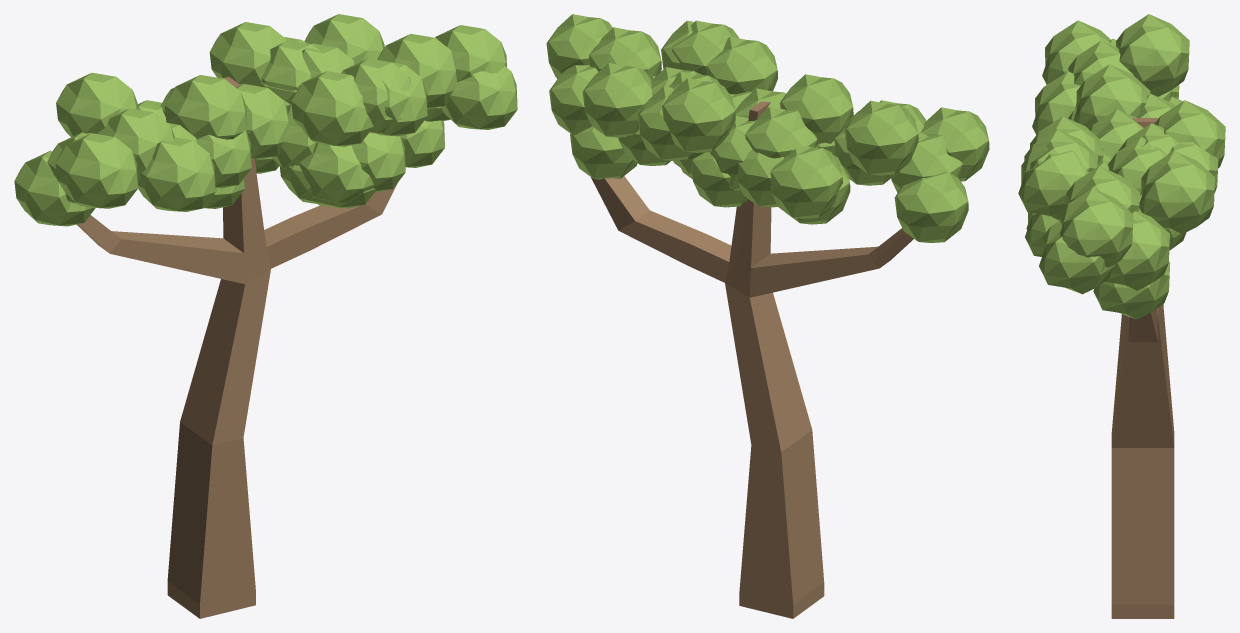
The model's file is long_tree.dae.
3 renders of one model, left to right at view 1: azimuth 30°, elevation 25°; view 2: azimuth 150°, elevation 25°; view 3: azimuth 270°, elevation 25°, orthographic. The views are drawn at different scales.
Parts seen in each view (by area): view 1: Würfel, Kugel_15, Kugel_25, Kugel_9, Kugel_21, Kugel_49, Kugel_19, Kugel_83, Kugel_29, Kugel_53, Kugel_3, Kugel_47 (+12 smaller); view 2: Würfel, Kugel_49, Kugel_83, Kugel_67, Kugel_29, Kugel_79, Kugel_21, Kugel_25, Kugel_15, Kugel_43, Kugel_55, Kugel_53 (+13 smaller); view 3: Würfel, Kugel_79, Kugel_49, Kugel_55, Kugel_23, Kugel_21, Kugel_75, Kugel_19, Kugel_83, Kugel_61, Kugel_15, Kugel_9 (+10 smaller).
Part boxes in pixels (x1,y1,x2,y2): Würfel: [77, 76, 397, 618]; Kugel_15: [55, 133, 137, 208]; Kugel_25: [291, 71, 373, 146]; Kugel_9: [138, 137, 215, 211]; Kugel_21: [164, 75, 246, 139]; Kugel_49: [56, 72, 137, 137]; Kugel_19: [440, 66, 517, 129]; Kugel_83: [209, 22, 286, 86]; Kugel_29: [14, 150, 95, 226]; Kugel_53: [377, 34, 456, 109]; Kugel_3: [299, 143, 374, 203]; Kugel_47: [236, 84, 288, 159]; Würfel: [591, 101, 913, 618]; Kugel_49: [844, 100, 918, 175]; Kugel_83: [661, 78, 735, 152]; Kugel_67: [770, 146, 842, 218]; Kugel_29: [894, 172, 968, 242]; Kugel_79: [582, 62, 652, 137]; Kugel_21: [779, 74, 853, 144]; Kugel_25: [706, 37, 777, 94]; Kugel_15: [920, 107, 989, 181]; Kugel_43: [745, 106, 817, 158]; Kugel_55: [546, 14, 612, 78]; Kugel_53: [589, 27, 661, 78]; Würfel: [1111, 118, 1174, 618]; Kugel_79: [1139, 151, 1214, 234]; Kugel_49: [1116, 14, 1189, 96]; Kugel_55: [1059, 188, 1133, 267]; Kugel_23: [1018, 146, 1089, 220]; Kugel_21: [1073, 64, 1150, 129]; Kugel_75: [1105, 211, 1169, 290]; Kugel_19: [1039, 220, 1114, 294]; Kugel_83: [1154, 100, 1225, 168]; Kugel_61: [1093, 262, 1169, 319]; Kugel_15: [1042, 20, 1110, 84]; Kugel_9: [1032, 71, 1080, 134].
Size of the model in its own units: 807 by 938 by 331.
